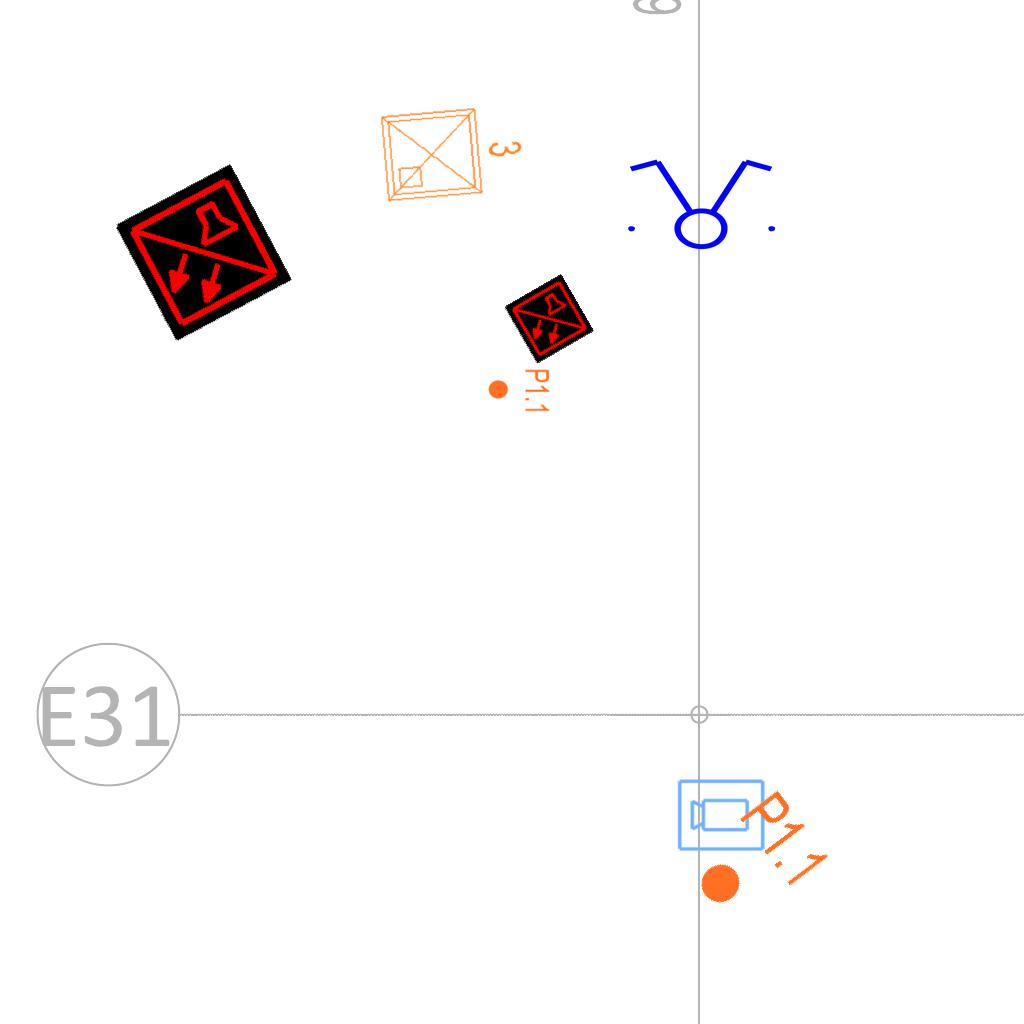Downlight_LED_Einbauleuchten_Flur: (676, 785, 835, 937), (487, 368, 551, 414)
Einbaudownlights_LED_Konferenzraeume: (372, 92, 532, 210)
KFO_Kamera_mit_Festobjektiv: (676, 776, 767, 853)
OKW_Multisensormelder_(Kombination_optischer_Rauch-Kahlenmonoxid_Waerme-Melder): (113, 163, 293, 343), (503, 273, 595, 365)
Serienschalter: (616, 155, 784, 251)
